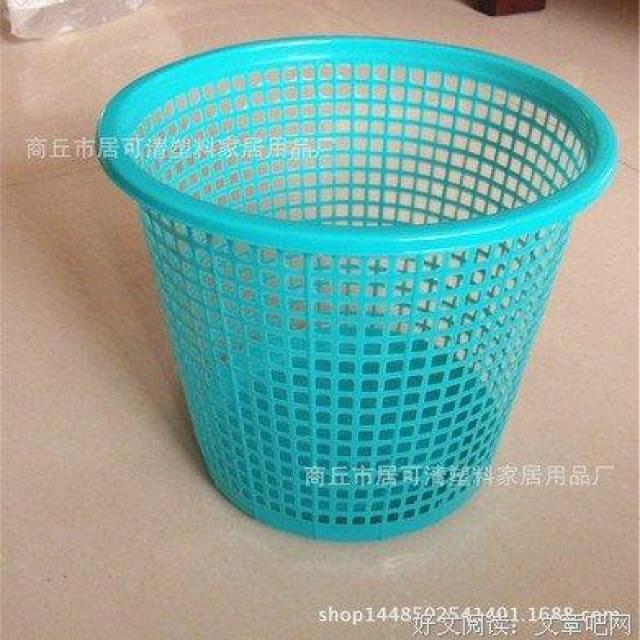dustbin: (84, 24, 625, 547)
